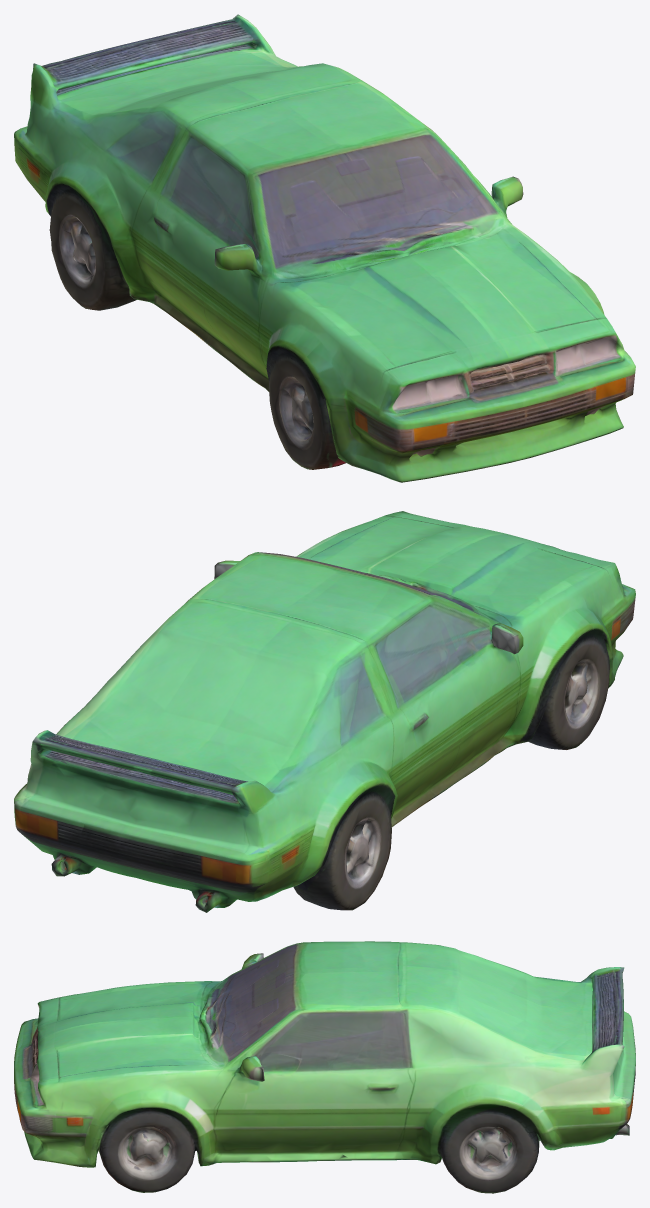
Rendered from Coche_lowpoly_ambient_0215223724_texture.fbx.
The picture shows the model from 3 angles, top to bottom: view 1: azimuth 30°, elevation 25°; view 2: azimuth 150°, elevation 25°; view 3: azimuth 270°, elevation 25°; orthographic projection. The views are drawn at different scales.
Visible parts, largest first — view 1: Mesh1_Mesh1.004; view 2: Mesh1_Mesh1.004; view 3: Mesh1_Mesh1.004.
Boxes of the visible parts, x1=… form: Mesh1_Mesh1.004: x1=14, y1=14, x2=635, y2=482; Mesh1_Mesh1.004: x1=14, y1=511, x2=635, y2=912; Mesh1_Mesh1.004: x1=14, y1=941, x2=635, y2=1193.
Size of the model in its own units: 88.2 by 60.45 by 200.
Materials: 1 (1 with a texture image).
